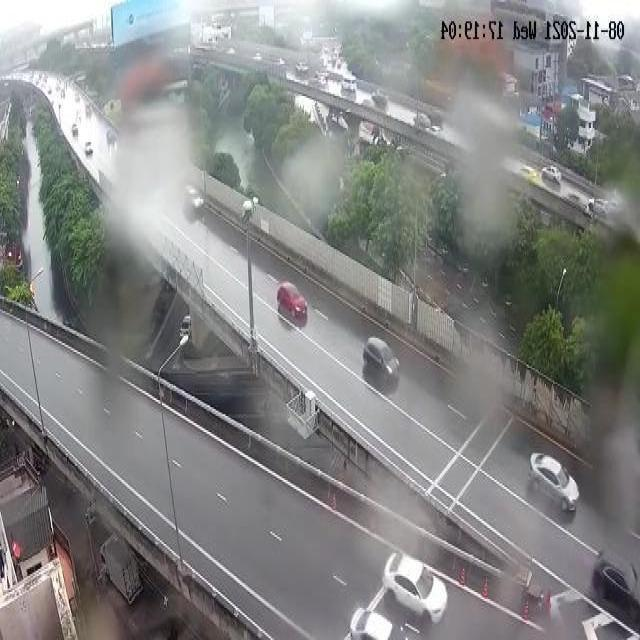Car: (381, 550, 448, 625), (528, 449, 579, 518), (592, 551, 640, 617), (362, 336, 399, 386), (275, 283, 310, 322), (541, 164, 563, 187)
Truck: (97, 530, 144, 605)
